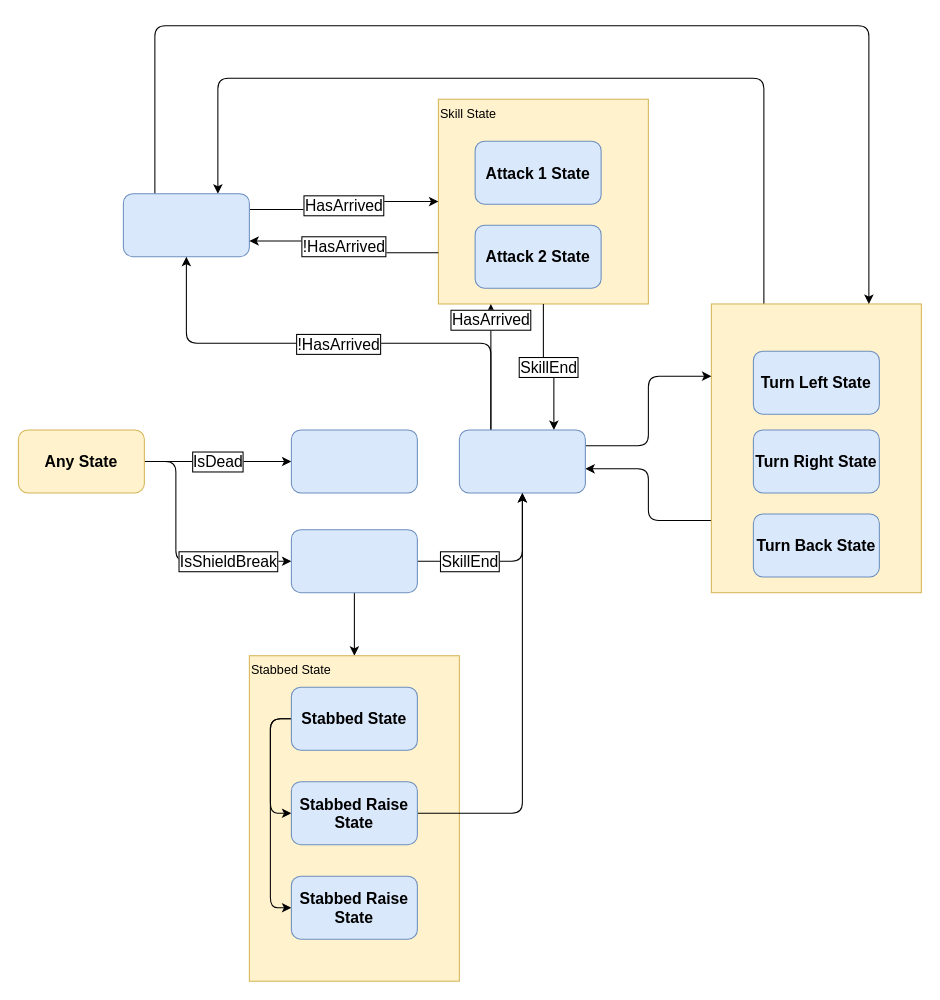
The diagram is 940 pixels wide and 1000 high, and some of its shapes have lost their labels. The shapes that lost their labels are listed below. From the top down, each one's box as (x1, y1, x2, y2) in pixels, then its label:
(122, 193, 249, 257): Chase State
(290, 429, 417, 493): Death State
(458, 429, 585, 493): Walk Around State
(710, 303, 921, 593): Turn State
(290, 529, 417, 593): Shield Break State
